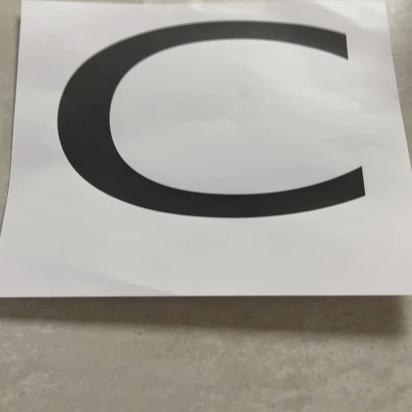seat: (18, 4, 412, 291)
